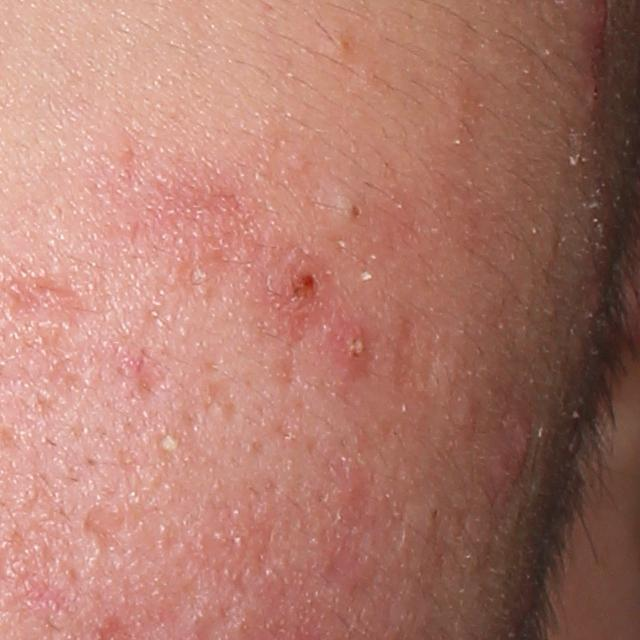atrophic_scar: (85, 505, 130, 554)
comedo: (335, 190, 372, 231)
papule: (269, 255, 330, 315), (326, 324, 374, 374), (509, 418, 534, 466)
pustule: (148, 425, 183, 462)
